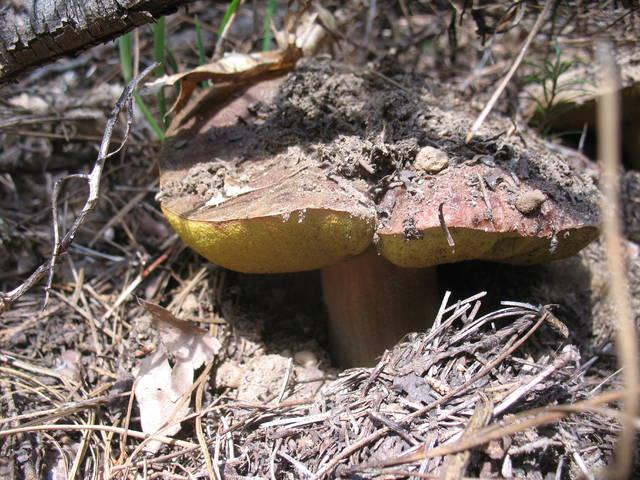Edible Mushroom: (154, 54, 604, 370)
